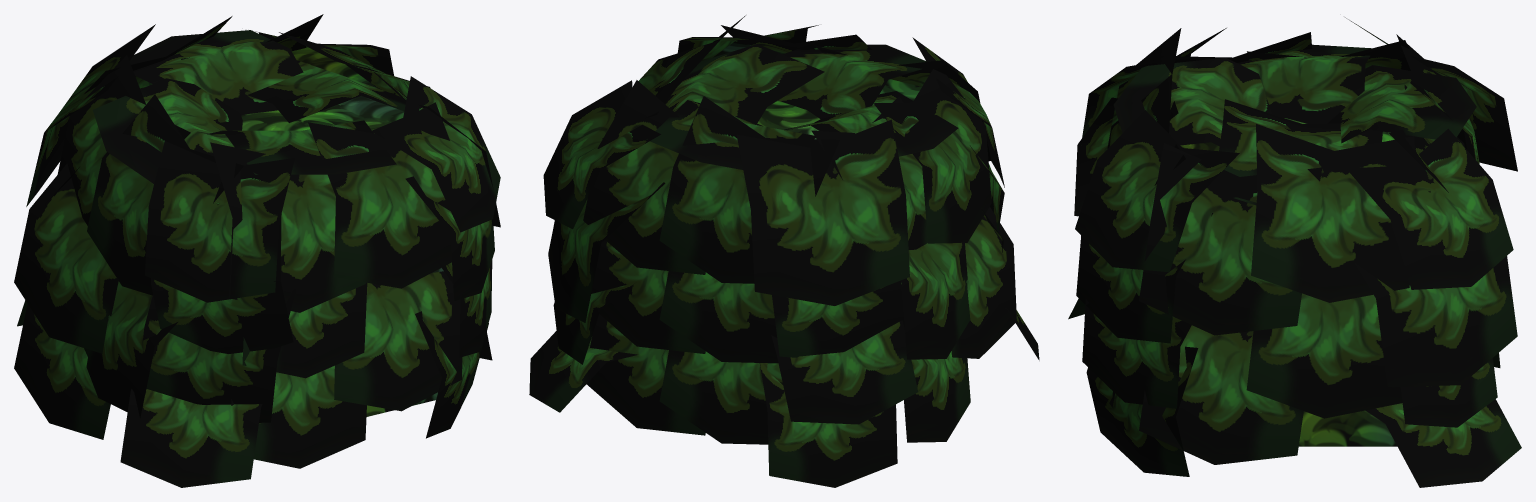
File: hedge.gltf
3 renders of one model, left to right at view 1: azimuth 30°, elevation 25°; view 2: azimuth 150°, elevation 25°; view 3: azimuth 270°, elevation 25°, orthographic. The views are drawn at different scales.
Visible parts, largest first — view 1: Hedge; view 2: Hedge; view 3: Hedge.
Boxes of the visible parts, box(x1,y1,x2,y2) form: Hedge: box(14, 14, 500, 487); Hedge: box(529, 15, 1039, 487); Hedge: box(1068, 17, 1521, 487).
Size of the model in its own units: 3.4 by 2.8 by 3.23.
Materials: 1 (1 with a texture image).
